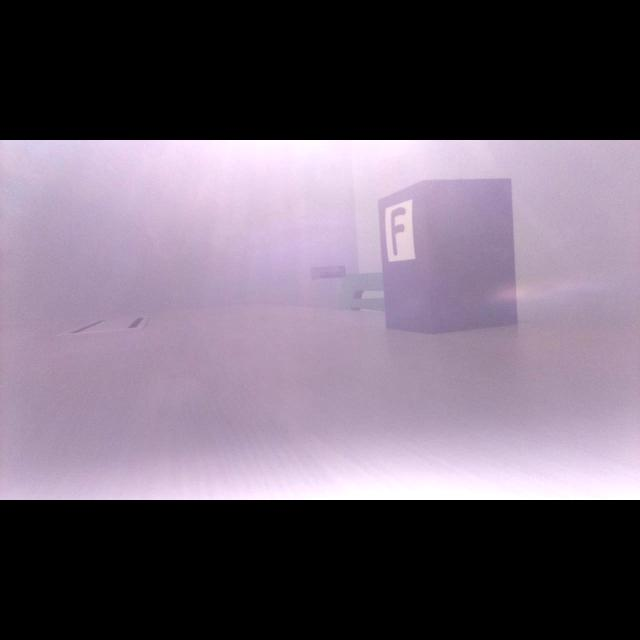F: (391, 207, 406, 255)
